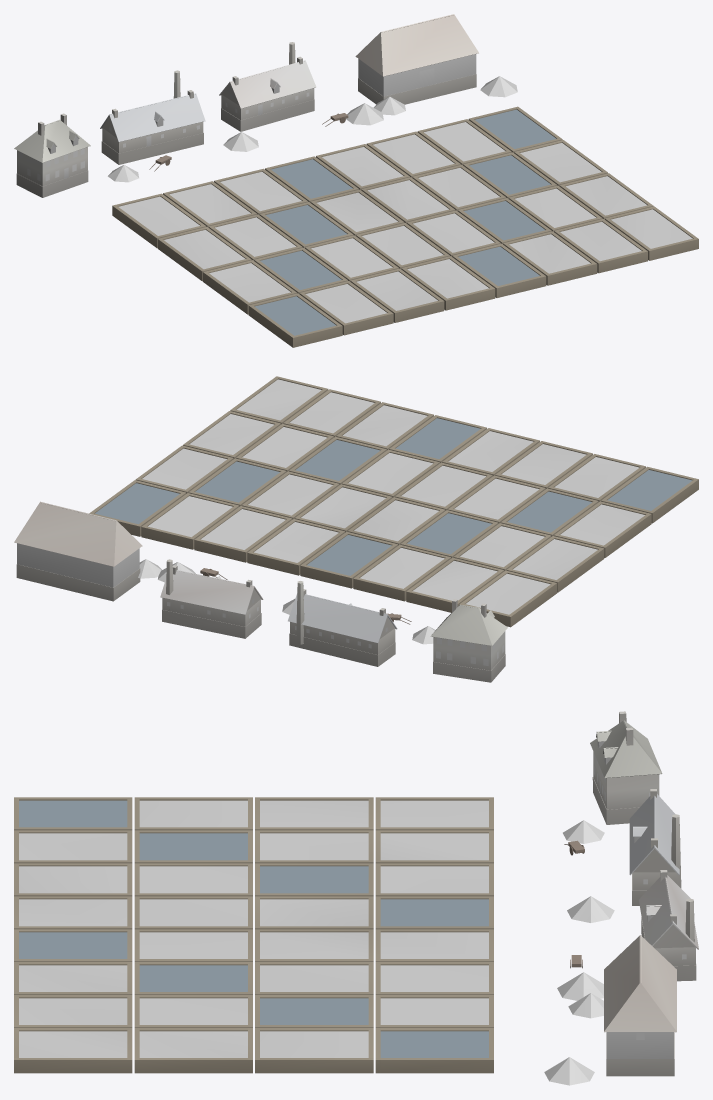
Rendered from saltworks_3.glb.
3 renders of one model, top to bottom at view 1: azimuth 30°, elevation 25°; view 2: azimuth 150°, elevation 25°; view 3: azimuth 270°, elevation 25°, orthographic. The views are drawn at different scales.
Parts seen in each view (by area): view 1: saltworks_3; view 2: saltworks_3; view 3: saltworks_3.
Boxes of the visible parts, x1=… form: saltworks_3: x1=14, y1=14, x2=698, y2=347; saltworks_3: x1=14, y1=376, x2=698, y2=682; saltworks_3: x1=14, y1=711, x2=698, y2=1085.
Bounding box in the file's own units: 102 × 13.67 × 96.6.
